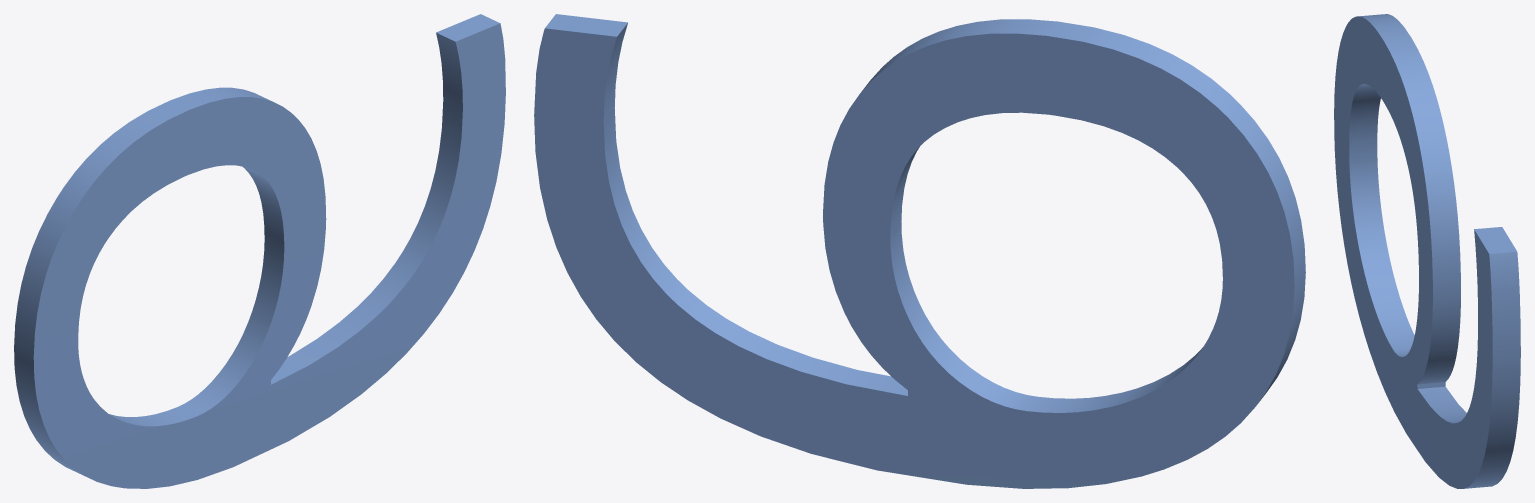
File: New_Number_9.gltf
3 renders of one model, left to right at view 1: azimuth 30°, elevation 25°; view 2: azimuth 150°, elevation 25°; view 3: azimuth 270°, elevation 25°, orthographic. The views are drawn at different scales.
Parts seen in each view (by area): view 1: Part 432; view 2: Part 432; view 3: Part 432.
Boxes of the visible parts, box(x1,y1,x2,y2) form: Part 432: box(14, 14, 505, 488); Part 432: box(534, 14, 1305, 488); Part 432: box(1334, 14, 1520, 488).
Bounding box in the file's own units: 0.00554 × 0.0036 × 0.00165.
